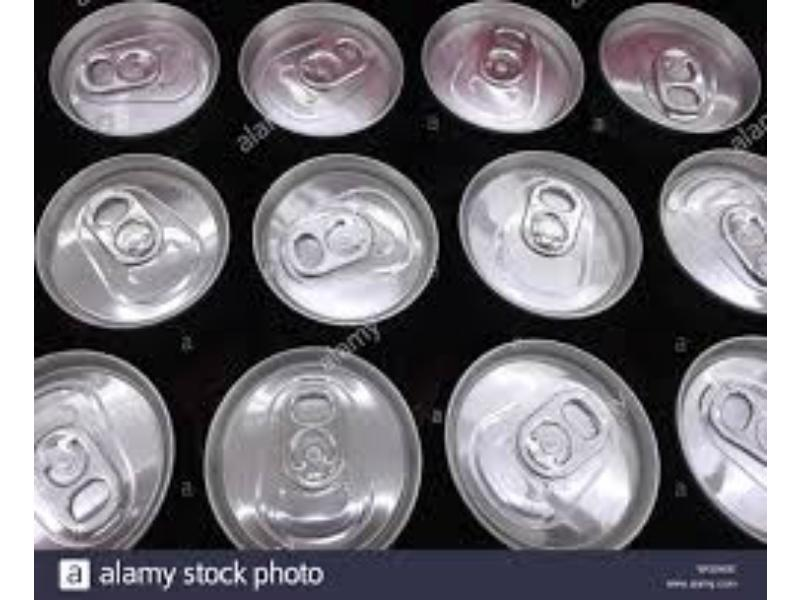can: (440, 331, 672, 549), (201, 338, 425, 552), (35, 148, 233, 332), (454, 146, 650, 330), (247, 146, 441, 330), (33, 347, 179, 553), (236, 4, 409, 145), (50, 3, 226, 141), (599, 0, 763, 142), (419, 1, 587, 136), (674, 323, 765, 549), (655, 143, 766, 320)
